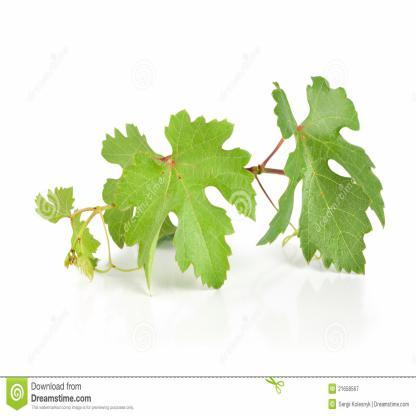grape leaf black rot: (102, 98, 258, 306), (258, 75, 390, 281)
